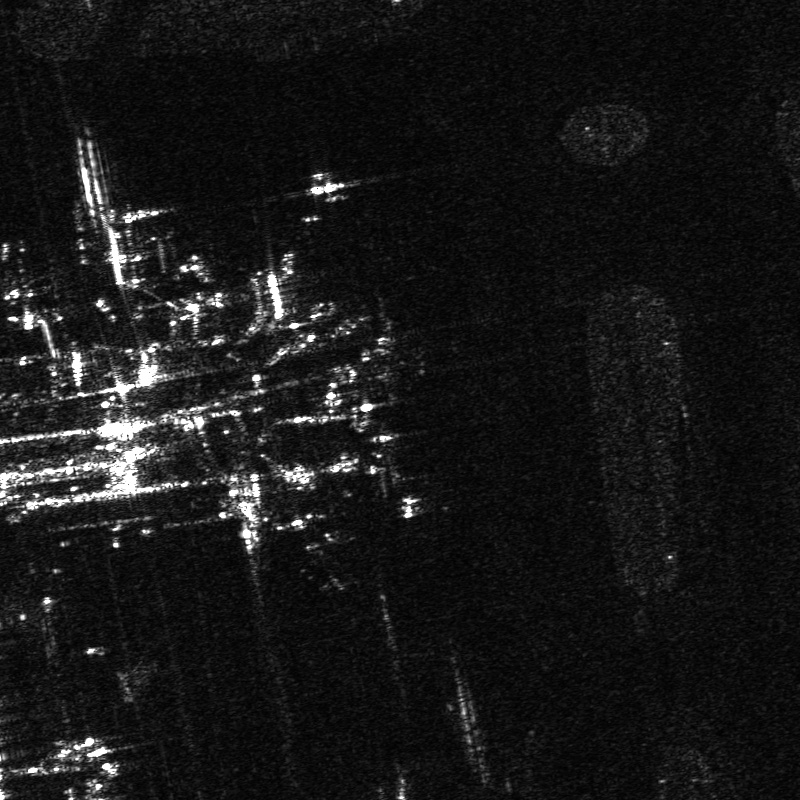A220: (1, 239, 51, 327)
